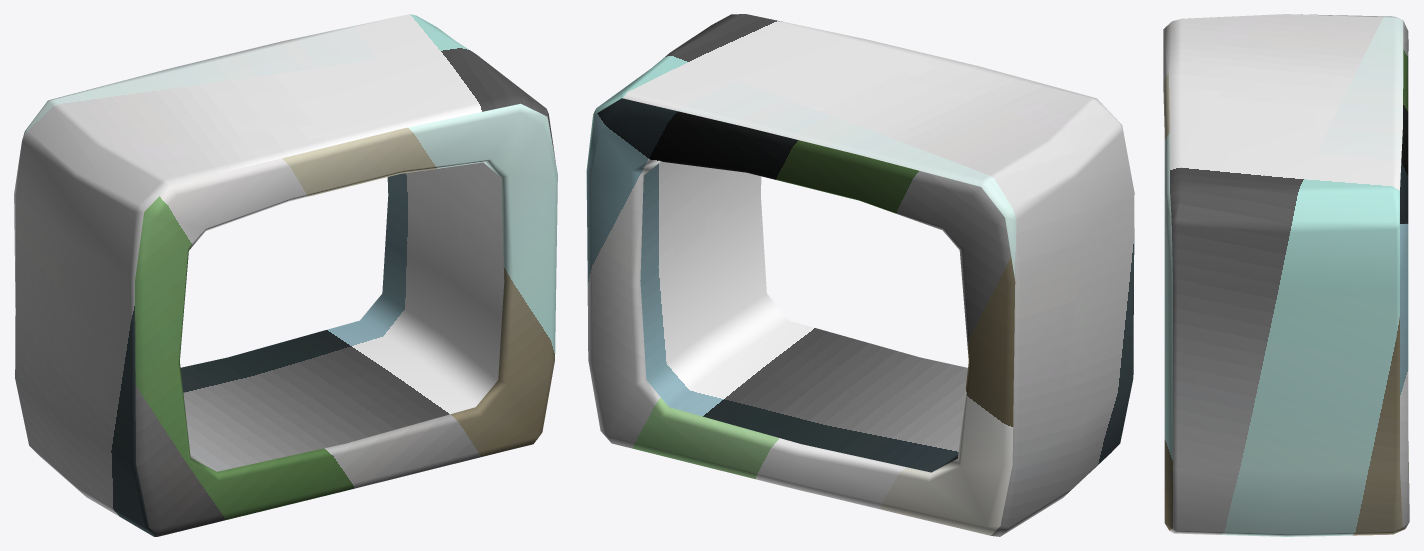
Rendered from P_StoneCubeWide.glb.
3 views of the same model, side by side, from view 1: azimuth 30°, elevation 25°; view 2: azimuth 150°, elevation 25°; view 3: azimuth 270°, elevation 25° (orthographic). The views are drawn at different scales.
Visible parts, largest first — view 1: P_StoneCubeWide; view 2: P_StoneCubeWide; view 3: P_StoneCubeWide.
Part boxes in pixels (<box>): P_StoneCubeWide: <box>14,14,557,536</box>; P_StoneCubeWide: <box>586,14,1134,536</box>; P_StoneCubeWide: <box>1163,14,1409,536</box>.
Bounding box in the file's own units: 1.01 × 0.7669 × 0.5003.
Materials: 1 (1 with a texture image).
